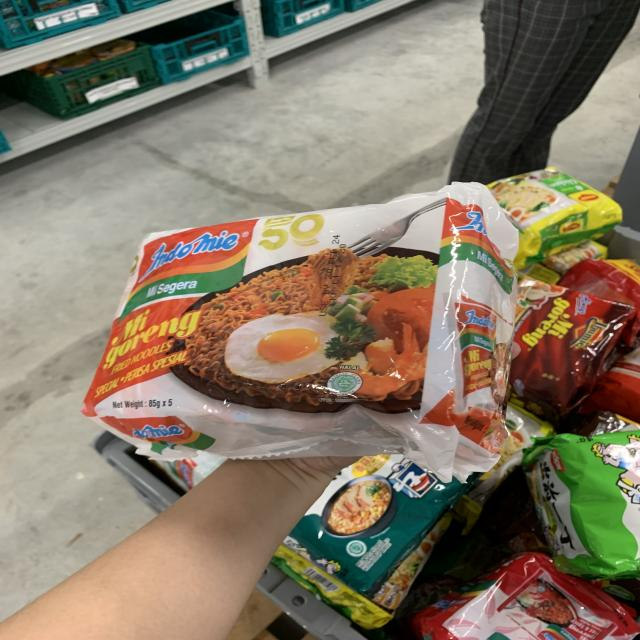object_name: (120, 200, 481, 455)
